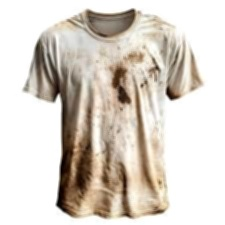earth: (62, 131, 93, 213), (112, 62, 131, 103), (101, 162, 124, 191), (142, 64, 158, 89), (127, 52, 144, 63)
